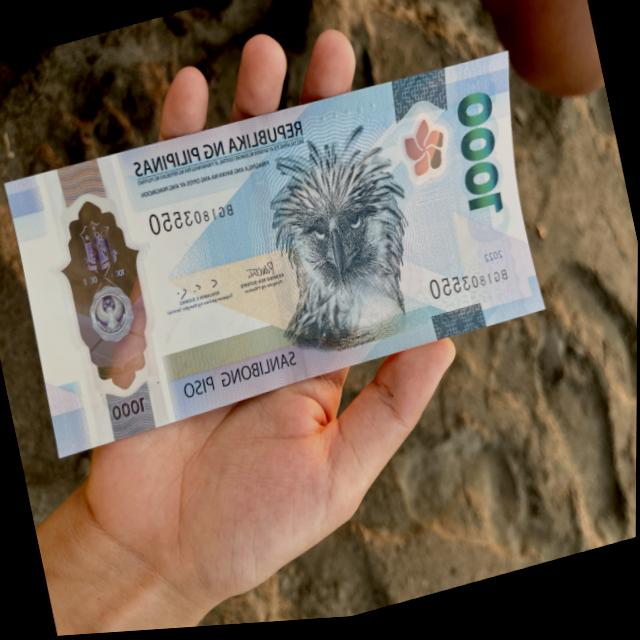clear_window: (31, 141, 187, 451)
eagle: (245, 121, 439, 372)
sampaguita: (387, 112, 469, 221)
